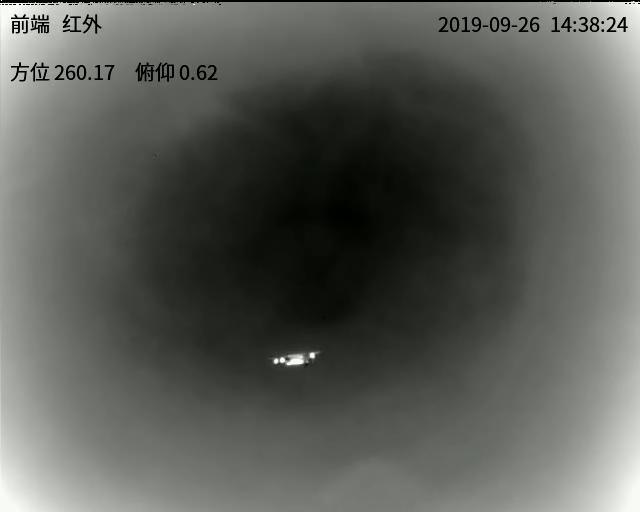uav: (261, 347, 321, 371)
